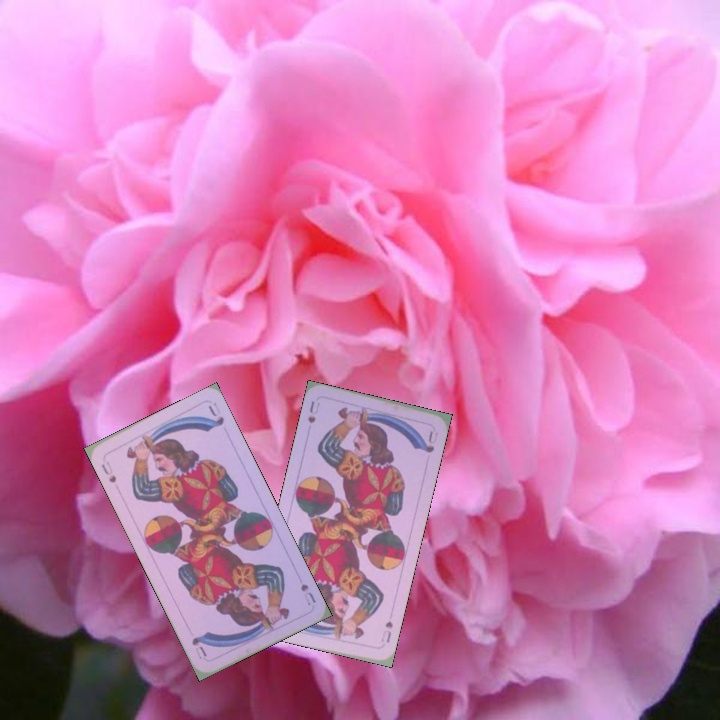SU: (97, 457, 119, 486), (296, 580, 318, 608), (304, 397, 322, 426), (377, 617, 395, 645)
